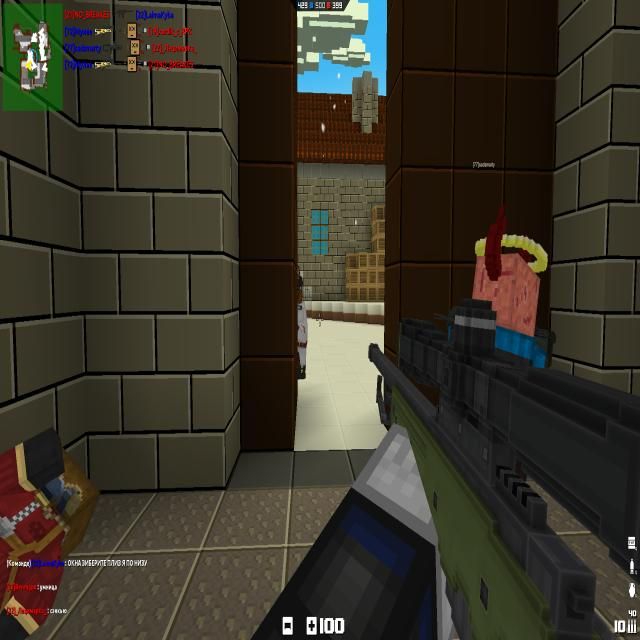player: (468, 208, 550, 370), (297, 277, 309, 380)
